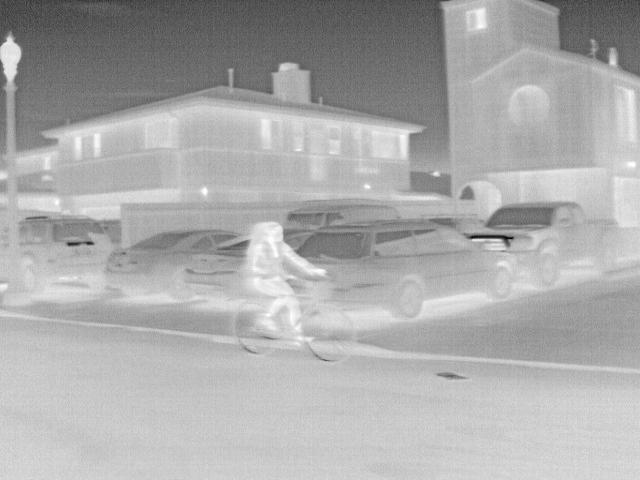car: (285, 222, 513, 318), (466, 202, 622, 290), (104, 228, 243, 306), (16, 215, 114, 295), (181, 232, 253, 303), (284, 197, 403, 229)
person: (245, 221, 327, 346)
